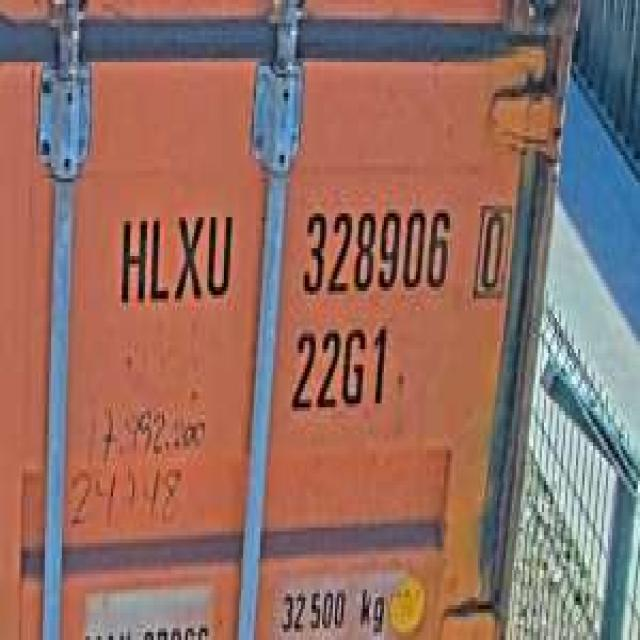dv: (469, 190, 514, 306)
owner: (111, 194, 237, 314)
serial: (294, 194, 452, 302)
size: (284, 314, 390, 423)
